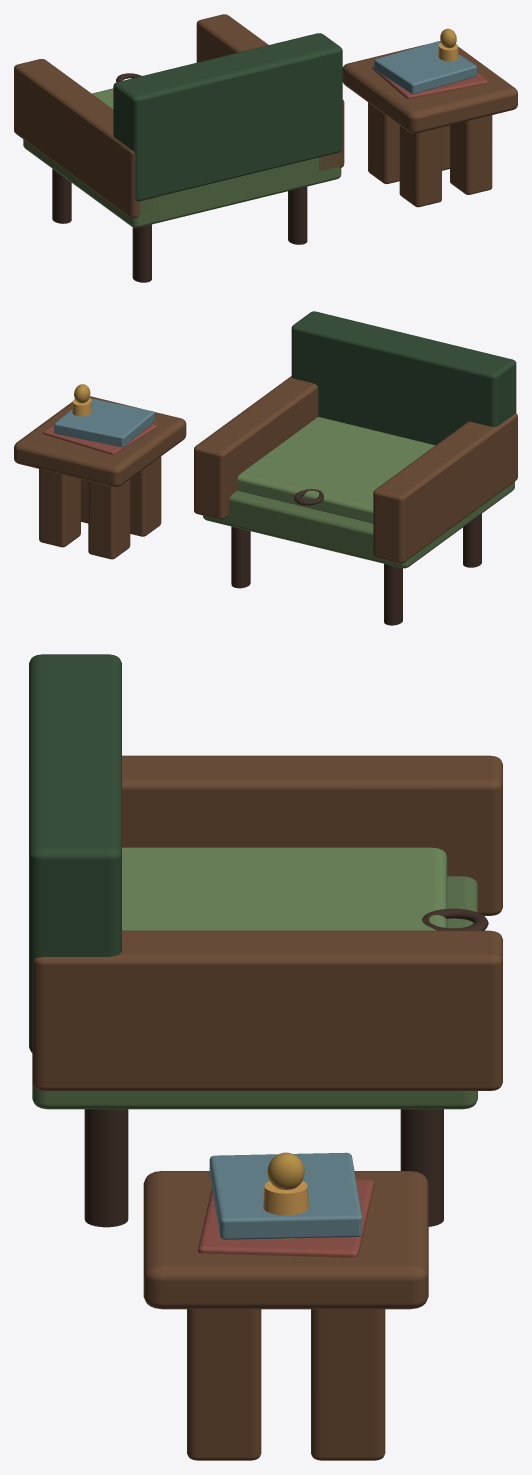
File: detail_reading_nook.glb
3 views of the same model, one above another, from view 1: azimuth 30°, elevation 25°; view 2: azimuth 150°, elevation 25°; view 3: azimuth 270°, elevation 25° (orthographic). The views are drawn at different scales.
Visible parts, largest first — view 1: wood, cloth; view 2: wood, cloth; view 3: wood, cloth, plaster, object 4.
Boxes of the visible parts, x1=… form: wood: x1=14, y1=14, x2=517, y2=282; cloth: x1=92, y1=41, x2=476, y2=108; wood: x1=14, y1=311, x2=517, y2=625; cloth: x1=54, y1=398, x2=435, y2=523; wood: x1=29, y1=654, x2=502, y2=1460; cloth: x1=122, y1=847, x2=447, y2=1239; plaster: x1=263, y1=1181, x2=308, y2=1239; object 4: x1=267, y1=1152, x2=304, y2=1189.
Bounding box in the file's own units: 2.4 × 1.2 × 1.2.
